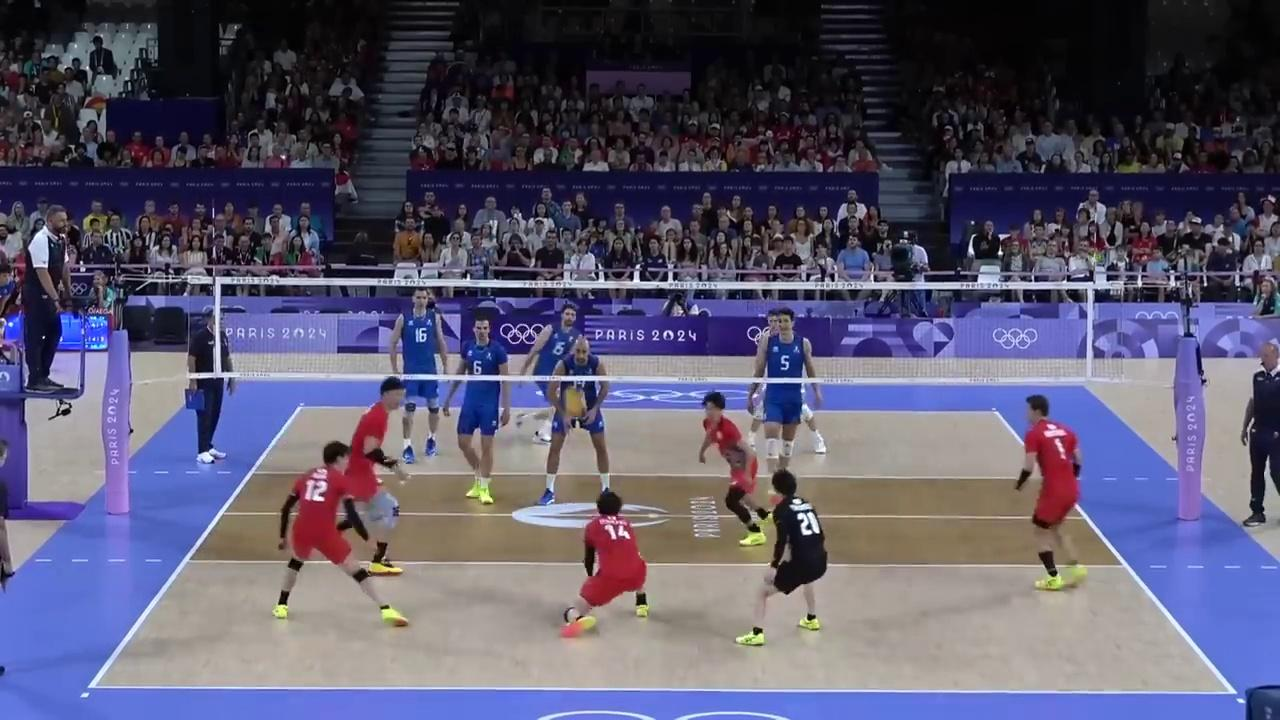ball: (565, 388, 586, 418)
